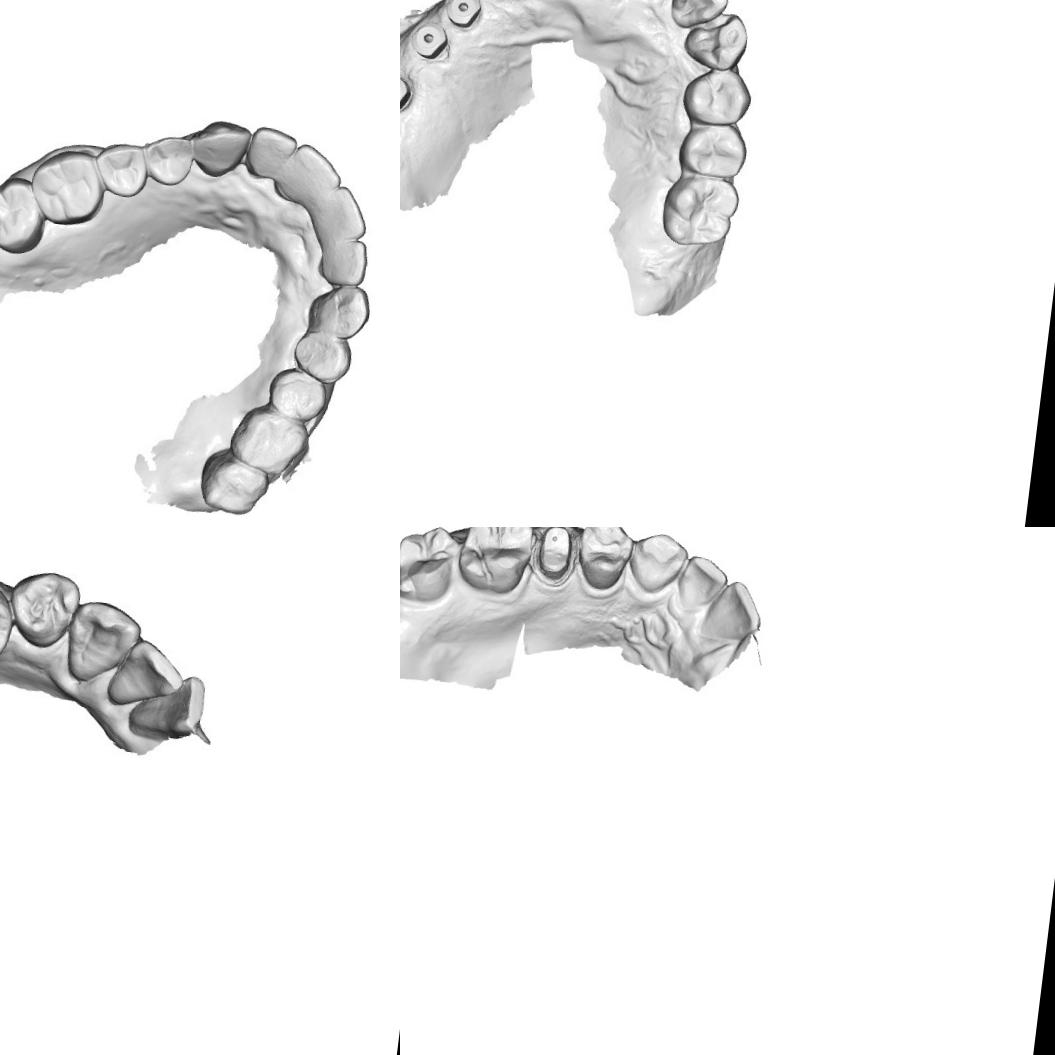canine: (62, 596, 136, 688), (625, 527, 693, 600), (188, 115, 253, 184), (682, 7, 750, 72), (304, 280, 374, 342)
crown: (530, 527, 580, 587)
implant: (408, 18, 448, 58), (443, 0, 484, 28), (400, 69, 417, 117)
incisor: (130, 670, 214, 749), (107, 636, 180, 718), (698, 576, 768, 648), (273, 139, 347, 207), (302, 180, 370, 242), (673, 553, 731, 614), (315, 233, 372, 289), (244, 123, 300, 179), (665, 0, 733, 33)
molar: (226, 398, 314, 481), (26, 144, 109, 230), (656, 172, 742, 253), (455, 527, 541, 599), (195, 444, 270, 520), (400, 527, 463, 606), (0, 175, 50, 258)
premolar: (7, 564, 85, 656), (676, 118, 752, 182), (678, 66, 756, 128), (571, 527, 637, 597), (263, 366, 334, 425), (288, 330, 356, 386), (89, 139, 150, 200), (139, 130, 197, 188)
